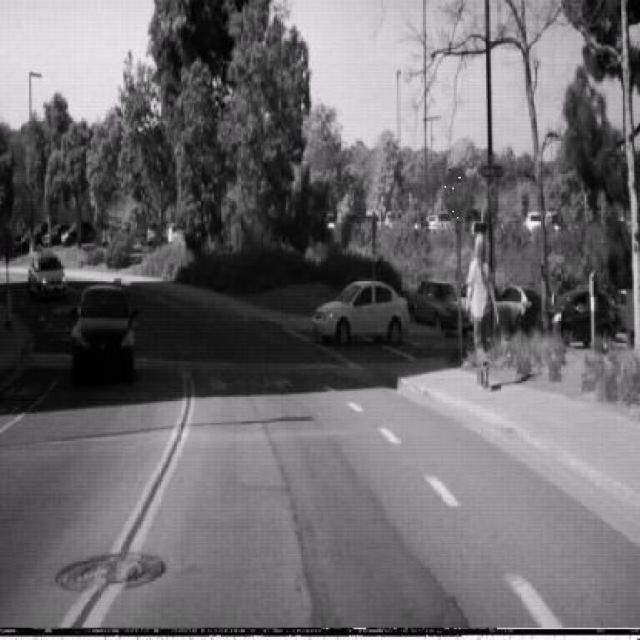pedestrianCrossing: (14, 215, 26, 238)
stop: (443, 164, 471, 220)
